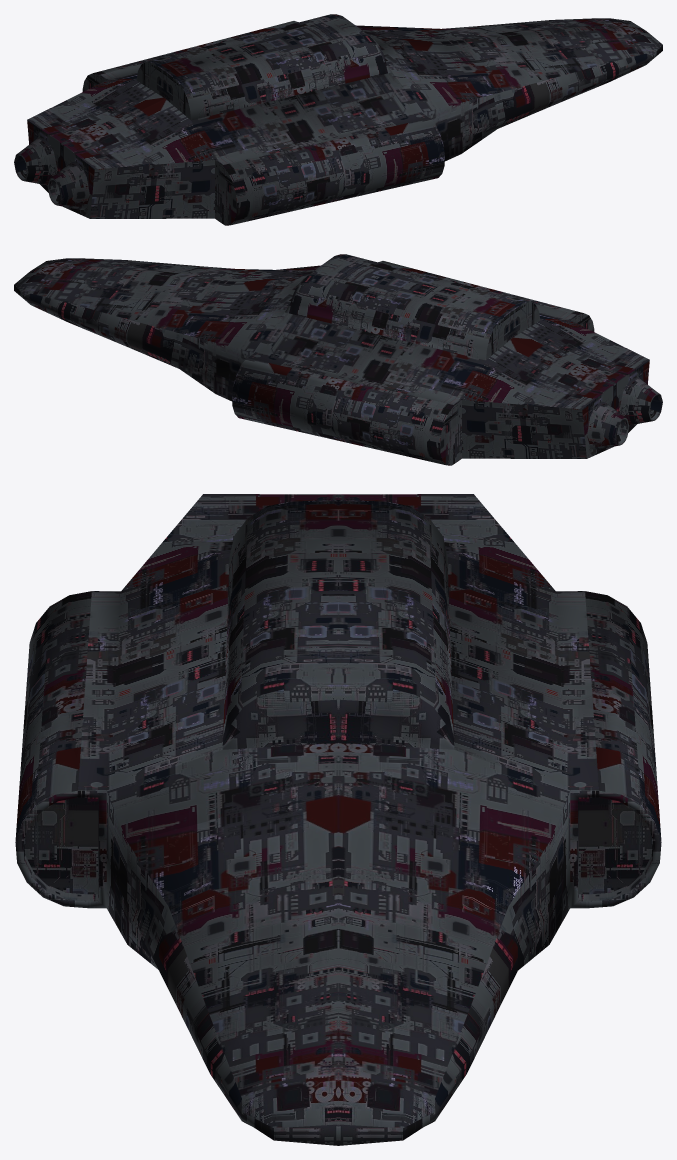
The model's file is ship.glb.
The picture shows the model from 3 angles, top to bottom: view 1: azimuth 30°, elevation 25°; view 2: azimuth 150°, elevation 25°; view 3: azimuth 270°, elevation 25°; orthographic projection. The views are drawn at different scales.
Visible parts, largest first — view 1: Ship; view 2: Ship; view 3: Ship.
Boxes of the visible parts, left/top/right/bottom form: Ship: left=14, top=14, right=662, bottom=225; Ship: left=14, top=254, right=662, bottom=465; Ship: left=15, top=494, right=661, bottom=1145.
Bounding box in the file's own units: 21.73 × 4.55 × 9.98.
1 material, 1 textured.
